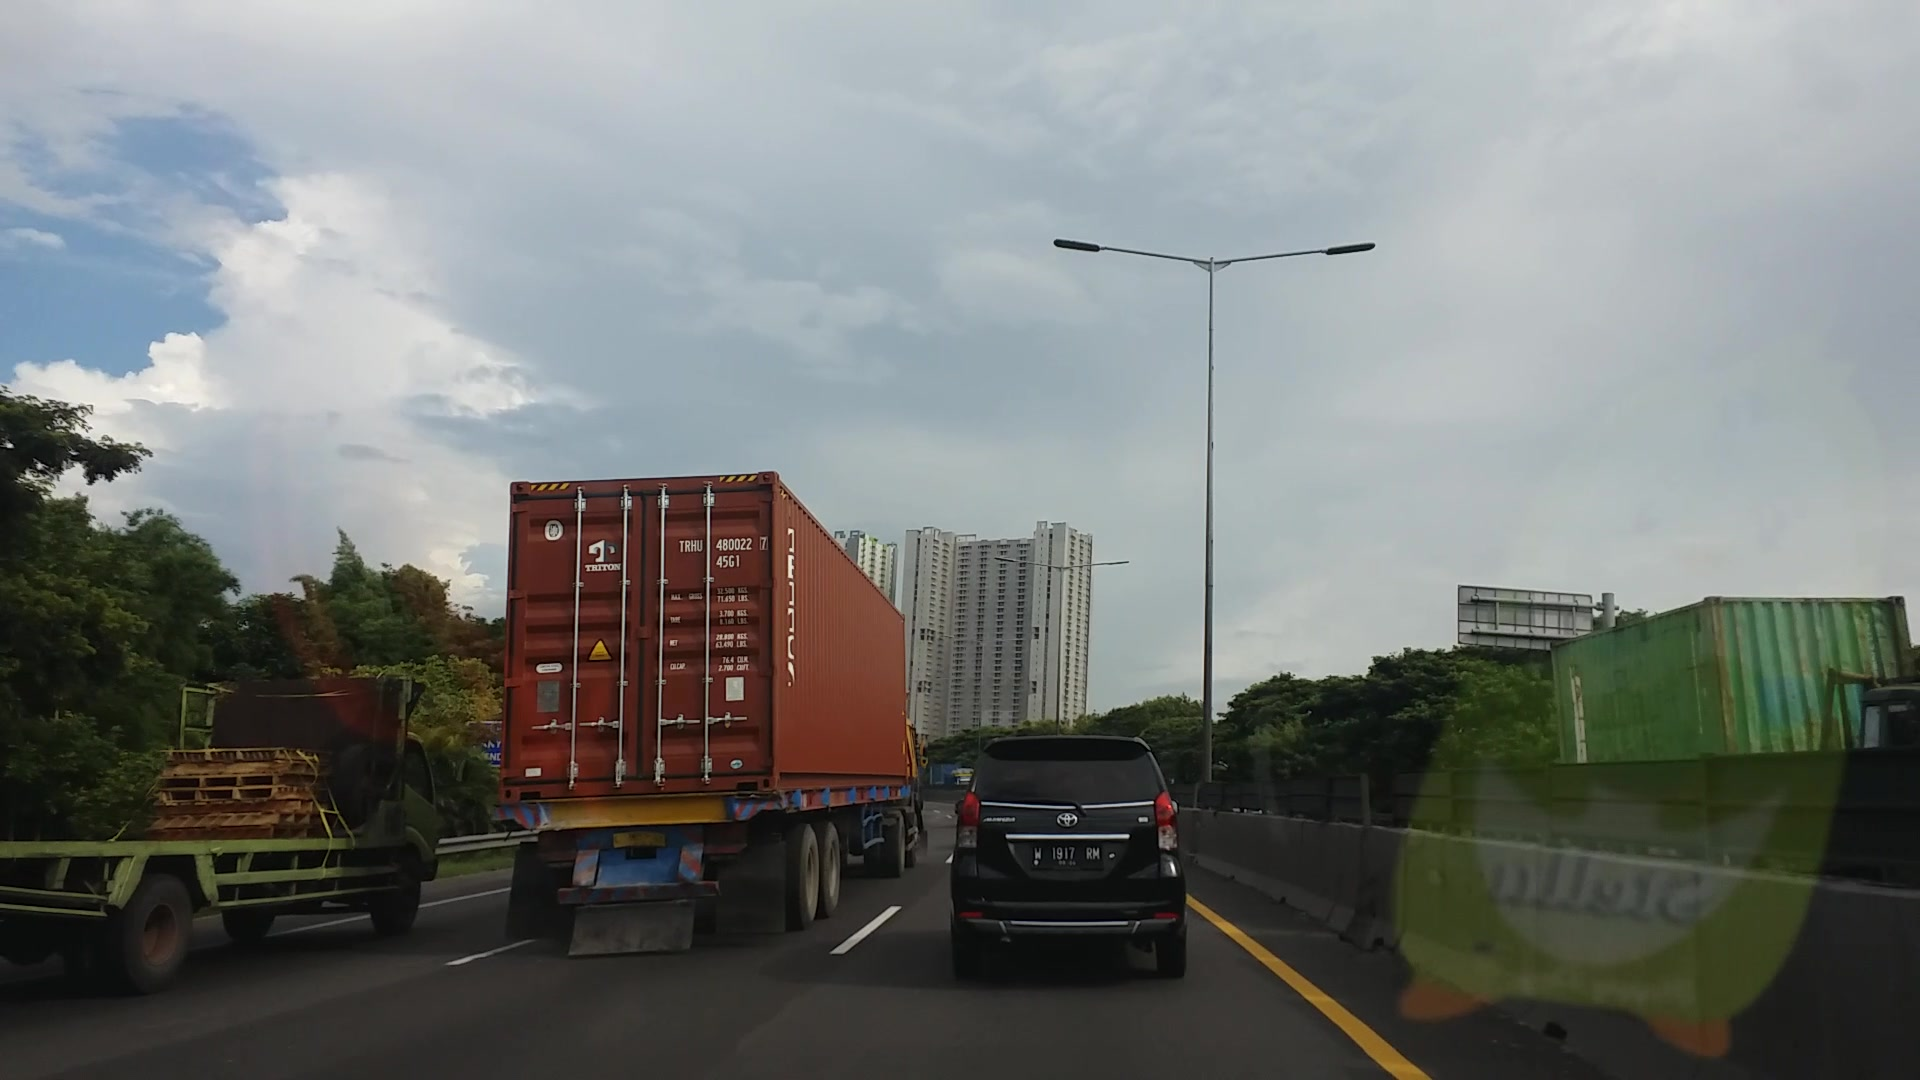plate_positive: (1031, 843, 1104, 872)
